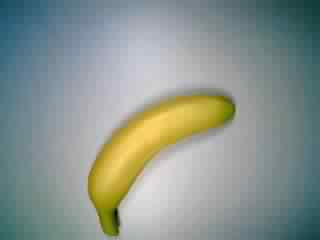banana: (86, 91, 238, 236)
